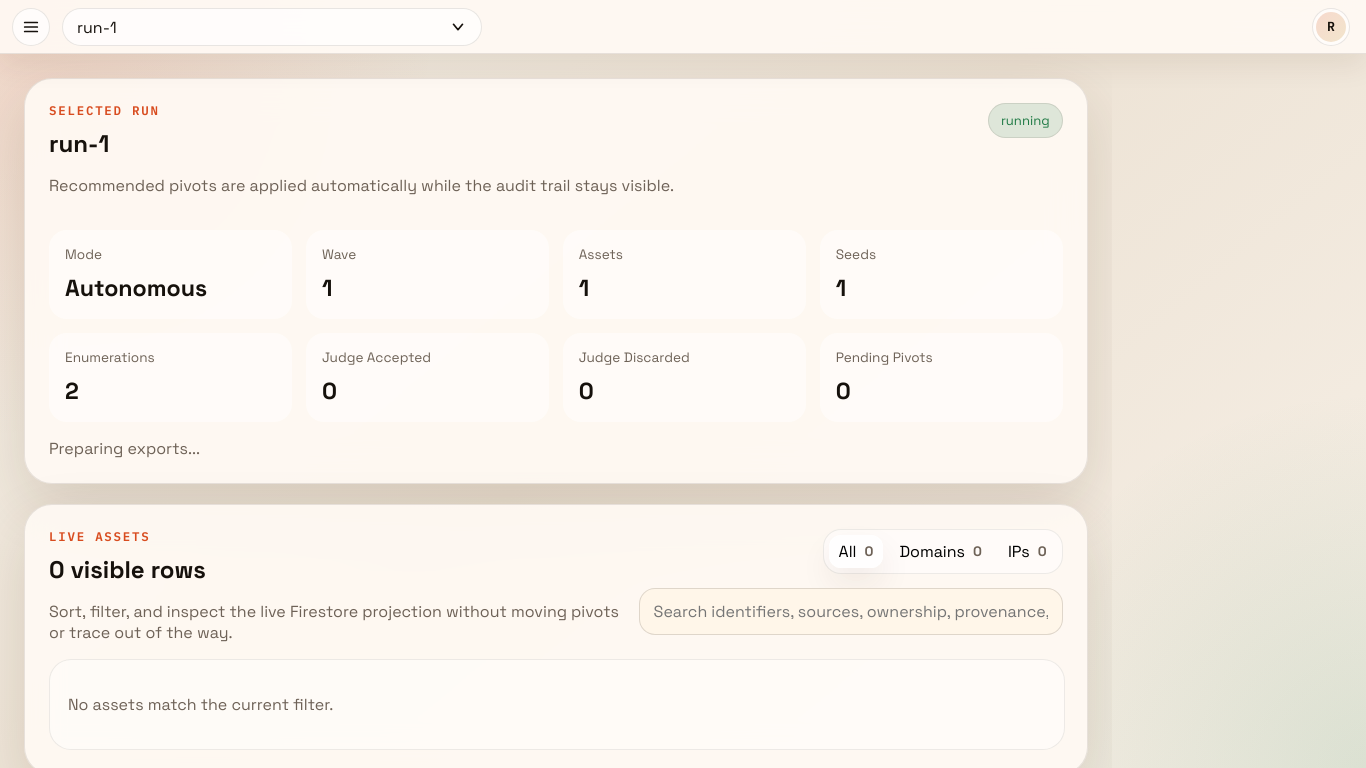
Test: App › uses the same fixed top bar on compact viewports and opens the drawer as an overlay
Expected: the button with aria-label "Select run" is shown, x1=62 y1=8 x2=482 y2=46
Expected: the button named "Open account menu" is shown, x1=1312 y1=8 x2=1350 y2=46
Click the button named "Open navigation" at coordinates (31, 27), box x1=12 y1=8 x2=50 y2=46
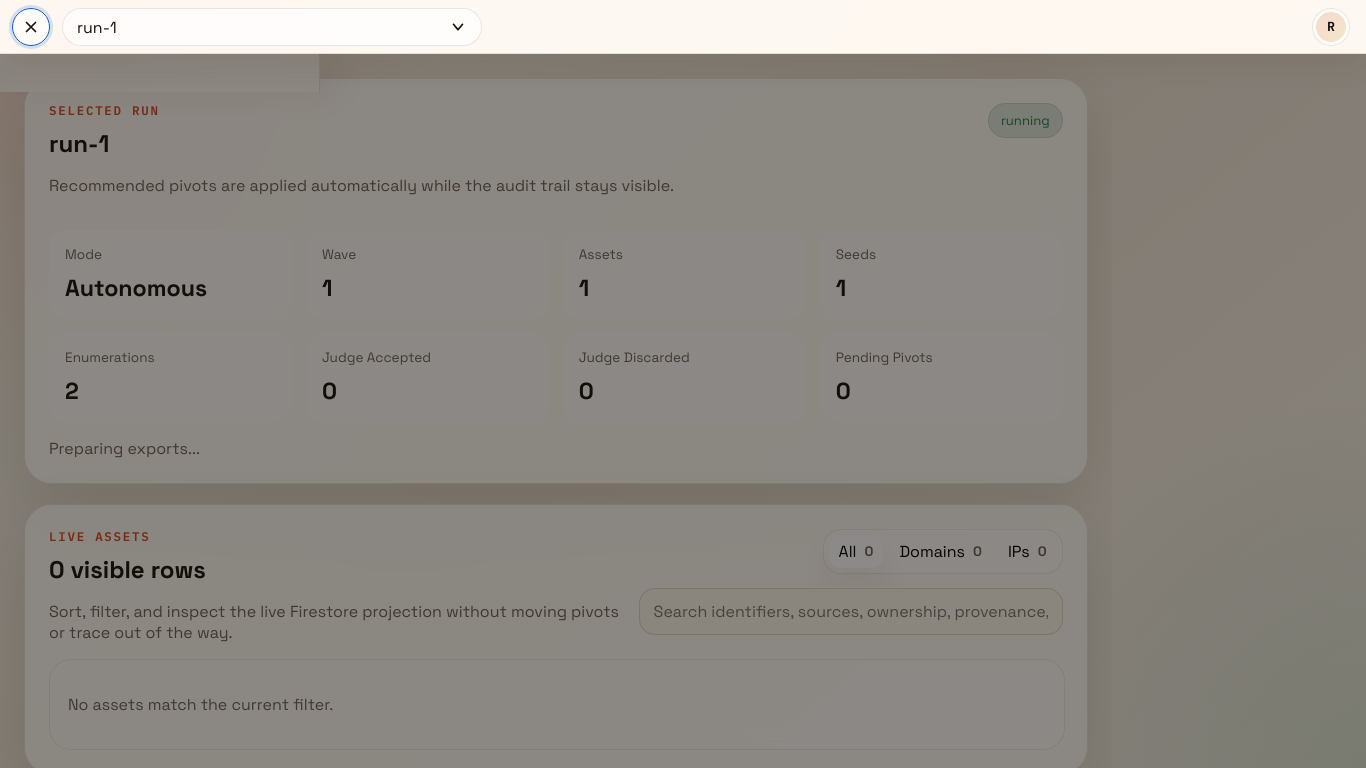
Expected: the element named "Workspace navigation" is shown, x1=0 y1=54 x2=320 y2=92
Expected: the button named "Close navigation" is shown, x1=12 y1=8 x2=50 y2=46
